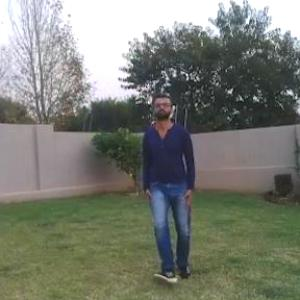follow: (142, 87, 198, 278)
